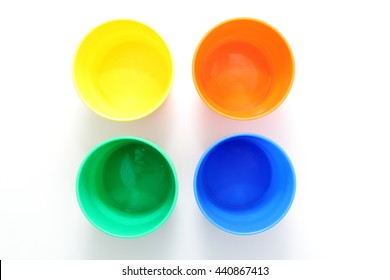plastic_glass: (187, 13, 309, 126), (69, 131, 183, 241), (187, 132, 307, 236), (69, 17, 179, 127)
